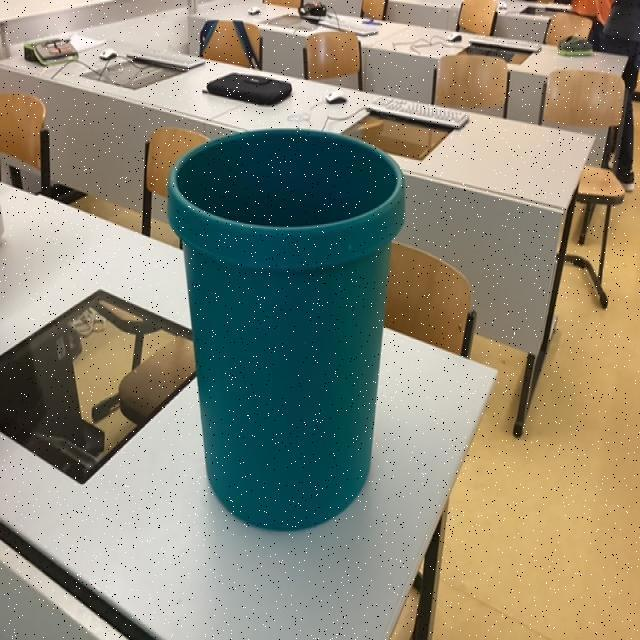garbage container: (137, 92, 413, 552)
